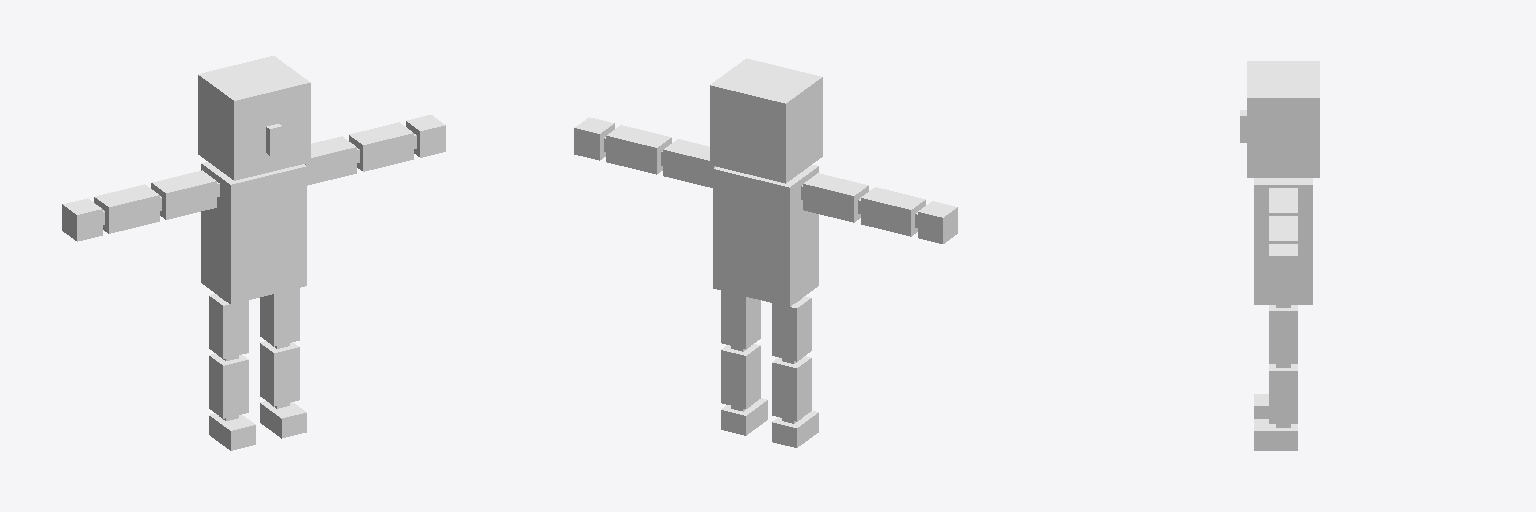
The model's file is Personaje1.obj.
3 views of the same model, side by side, from view 1: azimuth 30°, elevation 25°; view 2: azimuth 150°, elevation 25°; view 3: azimuth 270°, elevation 25° (orthographic).
Visible parts, largest first — view 1: object 1; view 2: object 1; view 3: object 1.
Boxes of the visible parts, x1,y1,x2,y2 form: object 1: [62, 56, 445, 450]; object 1: [574, 58, 957, 447]; object 1: [1240, 61, 1319, 450].
Bounding box in the file's own units: 5.8 × 5.3 × 1.1.